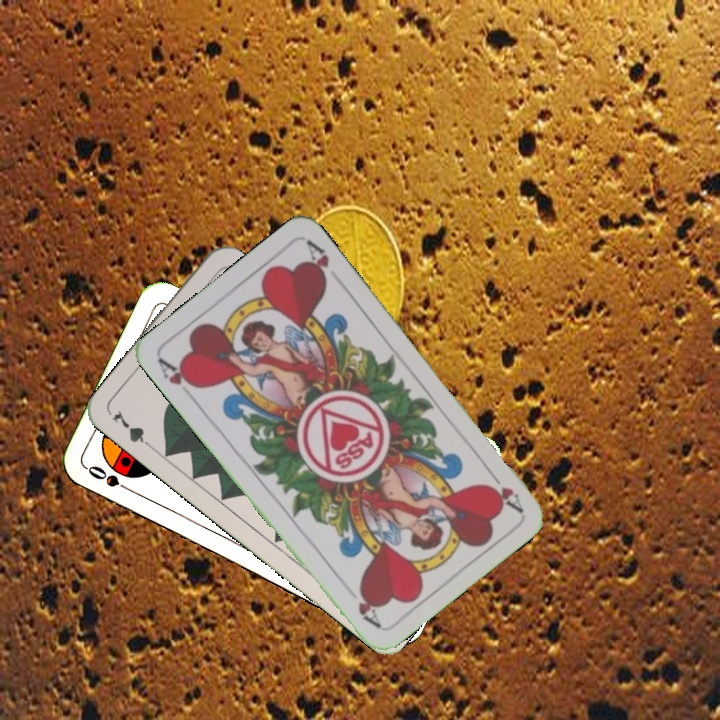G7: (107, 405, 157, 453)
HA: (154, 354, 203, 404), (482, 464, 525, 515)
SO: (84, 461, 138, 497)
